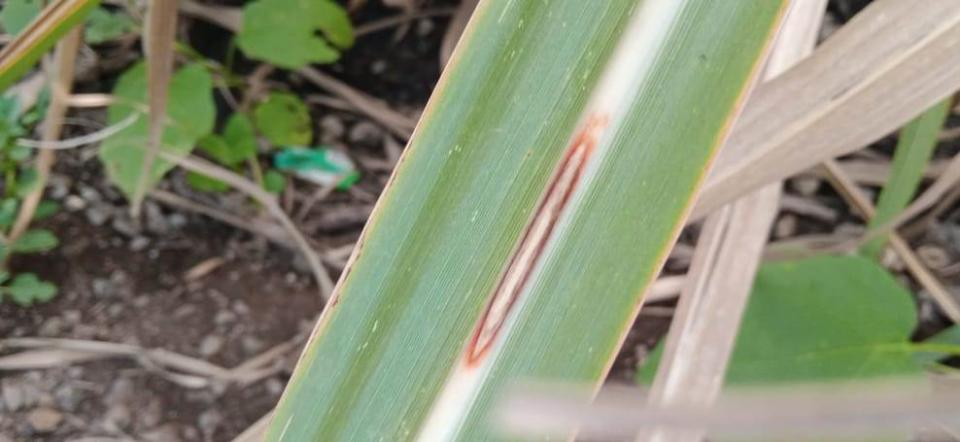RedRot: (465, 108, 611, 372)
